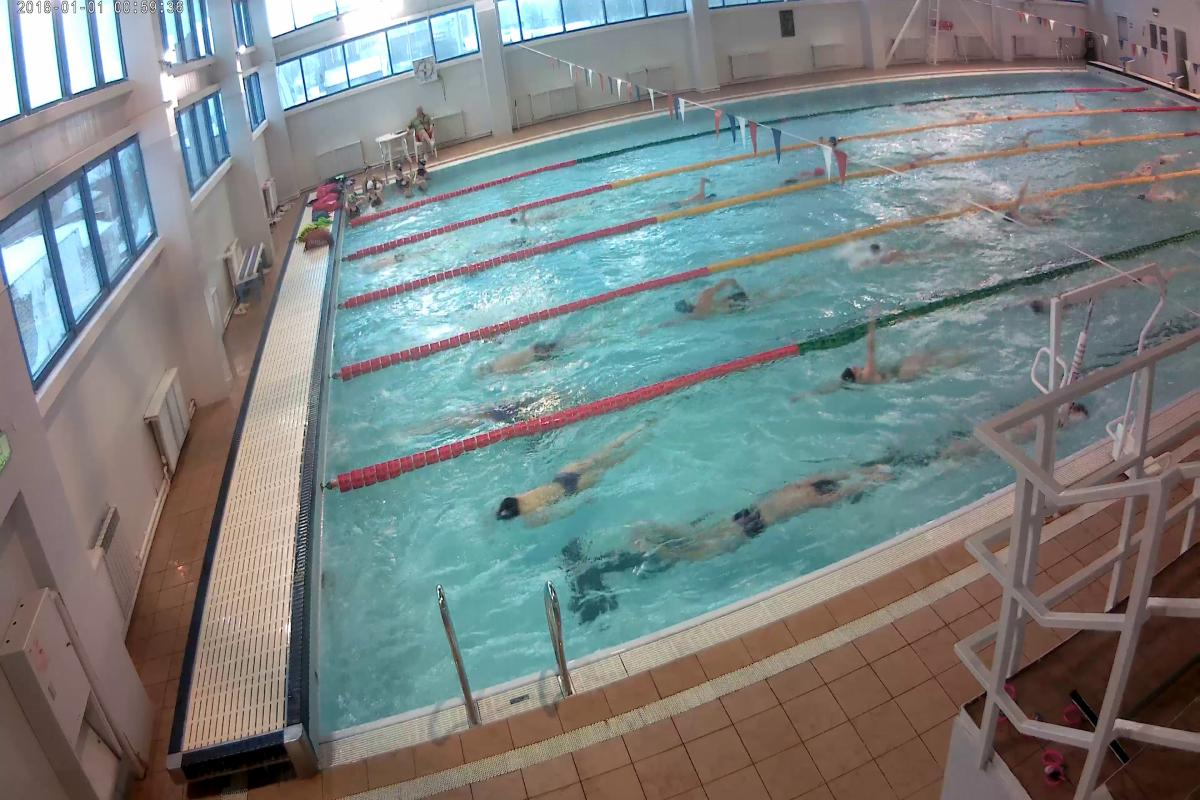swimmer: (648, 484, 849, 556), (484, 428, 638, 515), (844, 344, 1004, 408), (424, 388, 562, 433), (457, 341, 609, 375), (675, 288, 794, 319), (864, 238, 932, 271), (986, 200, 1078, 224), (1135, 184, 1187, 207)
